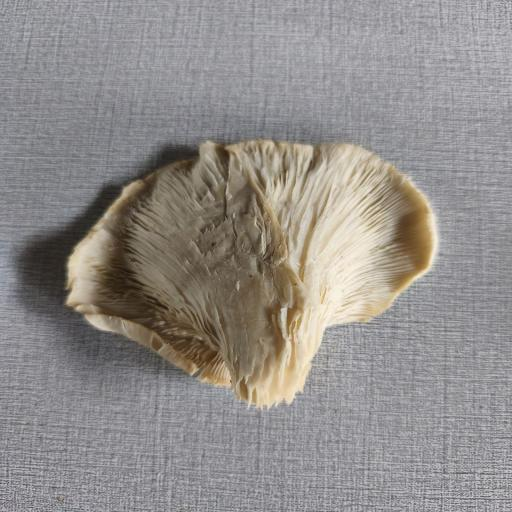White Oyster Mushroom: (52, 128, 465, 420)
